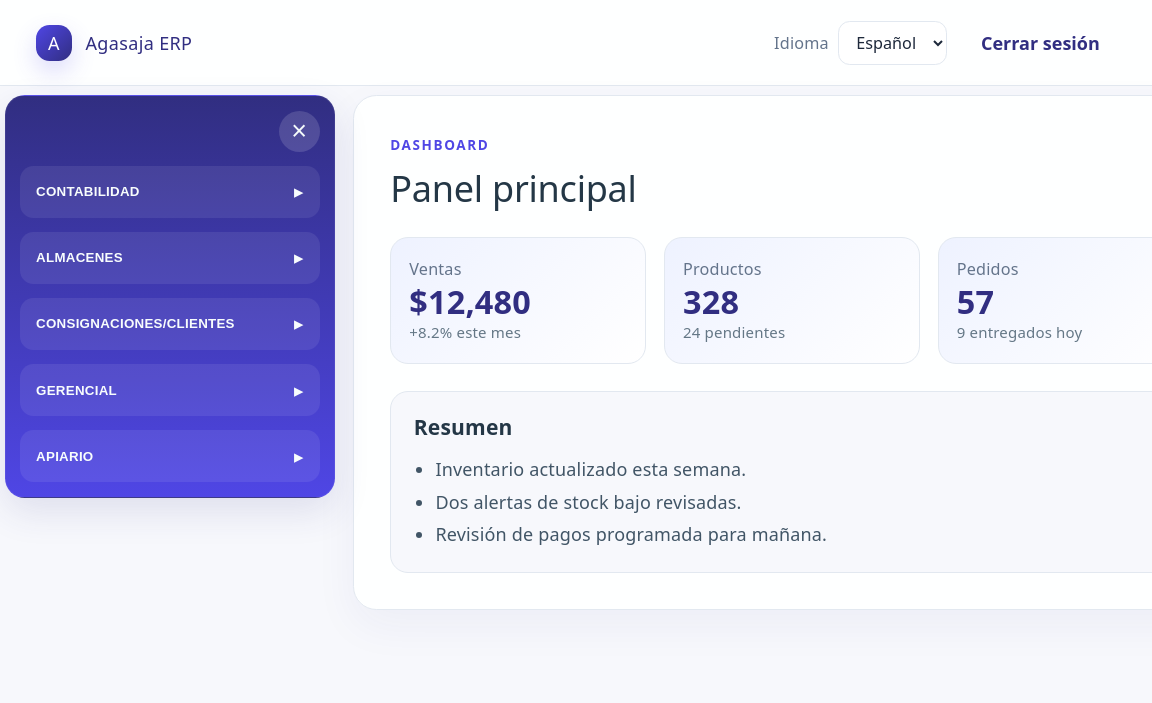
Test: shows dashboard sidebar with collapsible menu sections
Step 1. Click the button "CONTABILIDAD ▸" → (88, 192), box [20,166,320,218]
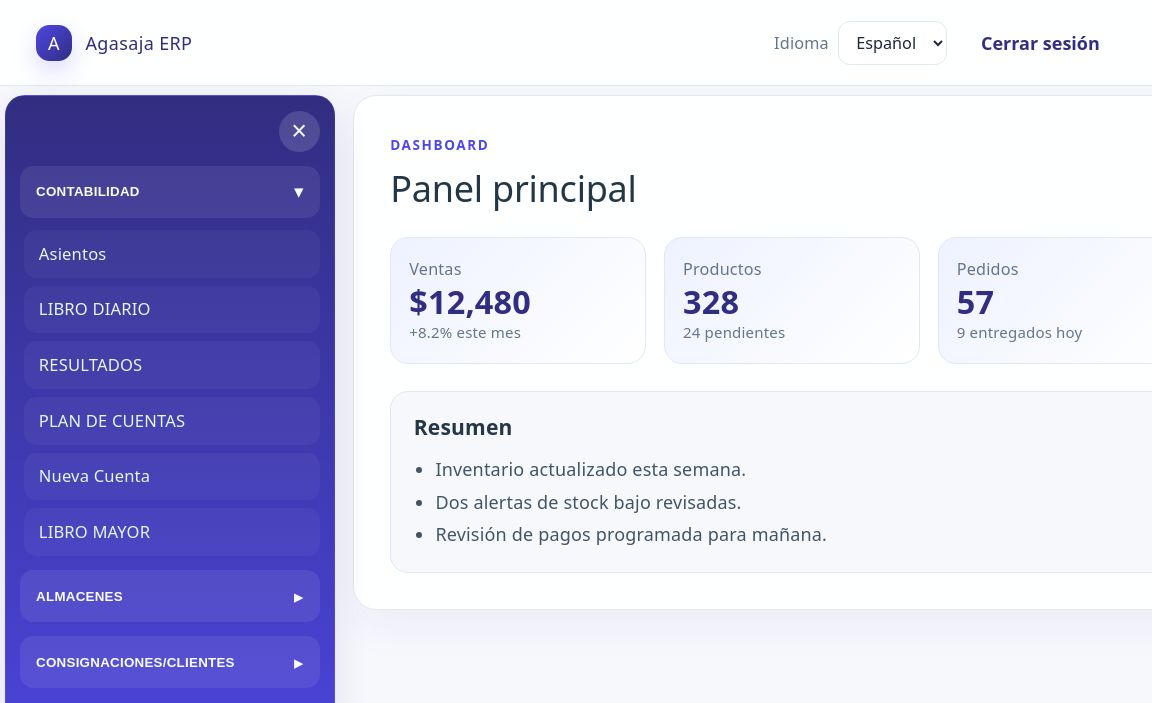
Check: the link "Asientos" is shown, box [24,230,320,278]
